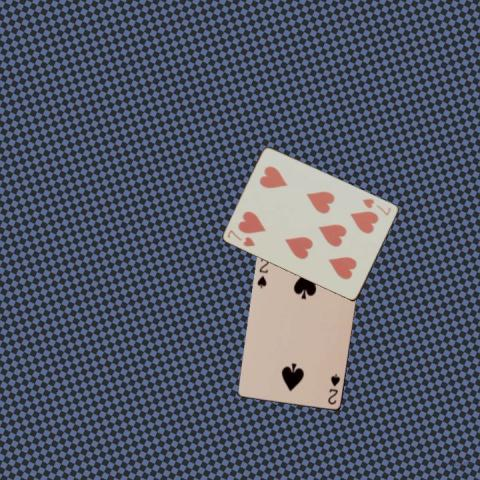2s: (254, 254, 271, 289), (326, 371, 342, 406)
7h: (360, 195, 393, 217), (225, 227, 256, 248)
